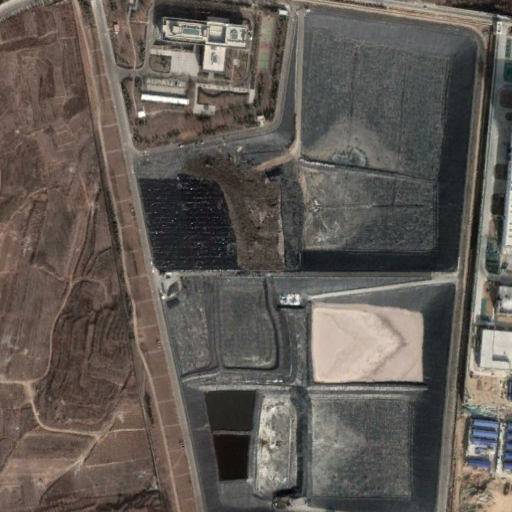lf: (121, 6, 484, 510)
